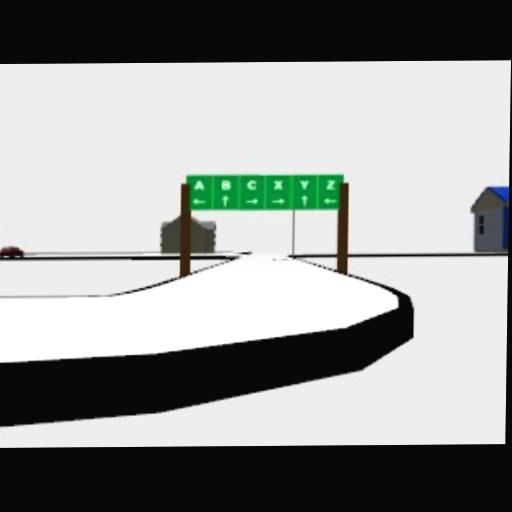A: (194, 179, 205, 192)
B: (221, 179, 232, 192)
C: (246, 179, 259, 192)
Left: (191, 196, 207, 207), (323, 197, 339, 206)
Right: (271, 196, 287, 207), (245, 197, 261, 207)
Straight: (299, 195, 311, 209), (220, 194, 230, 209)
X: (273, 178, 284, 191)
Y: (299, 179, 312, 192)
Z: (324, 177, 336, 192)
